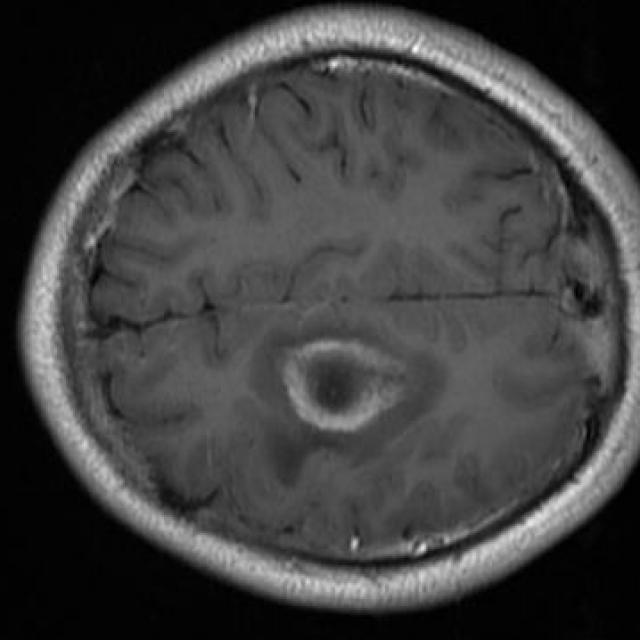glioma: (257, 328, 444, 487)
